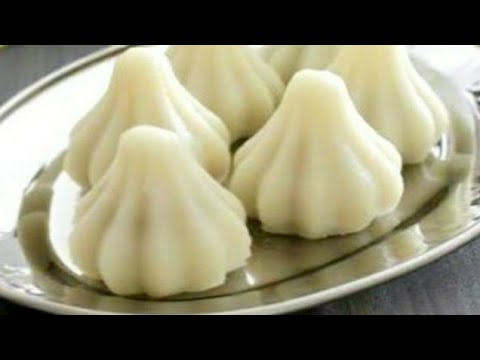modak: (70, 117, 252, 293), (244, 69, 399, 226)
